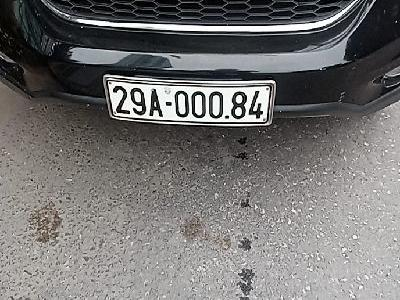lisence: (100, 72, 276, 128)
